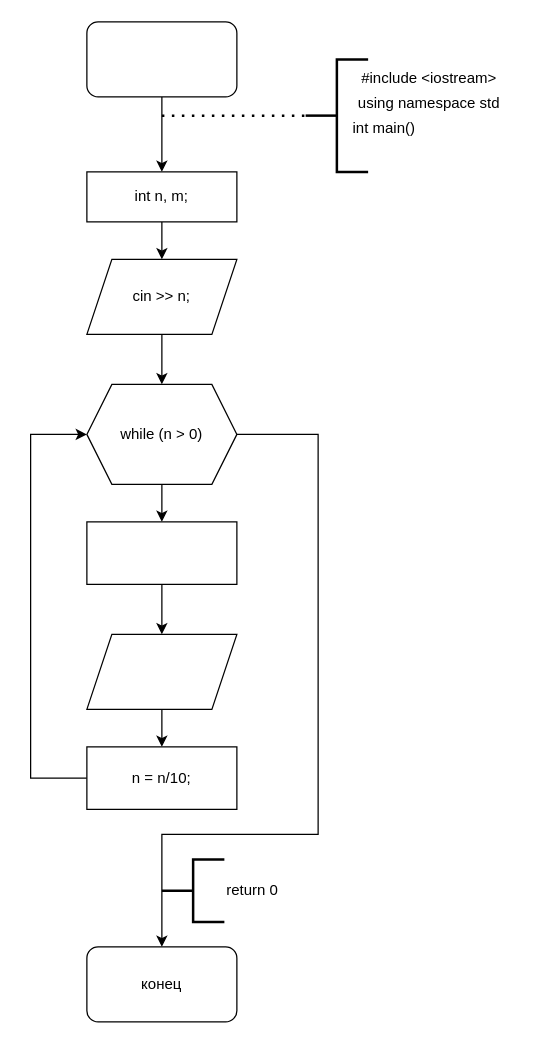
This 540x1044 diagram has some shape labels left out. Here are the shapes that lost their labels. From the top down, the centre of each, then its label:
At [161,59]: "начало".
At [161,552]: "m = n%10;".
At [161,671]: "cout << m;".
